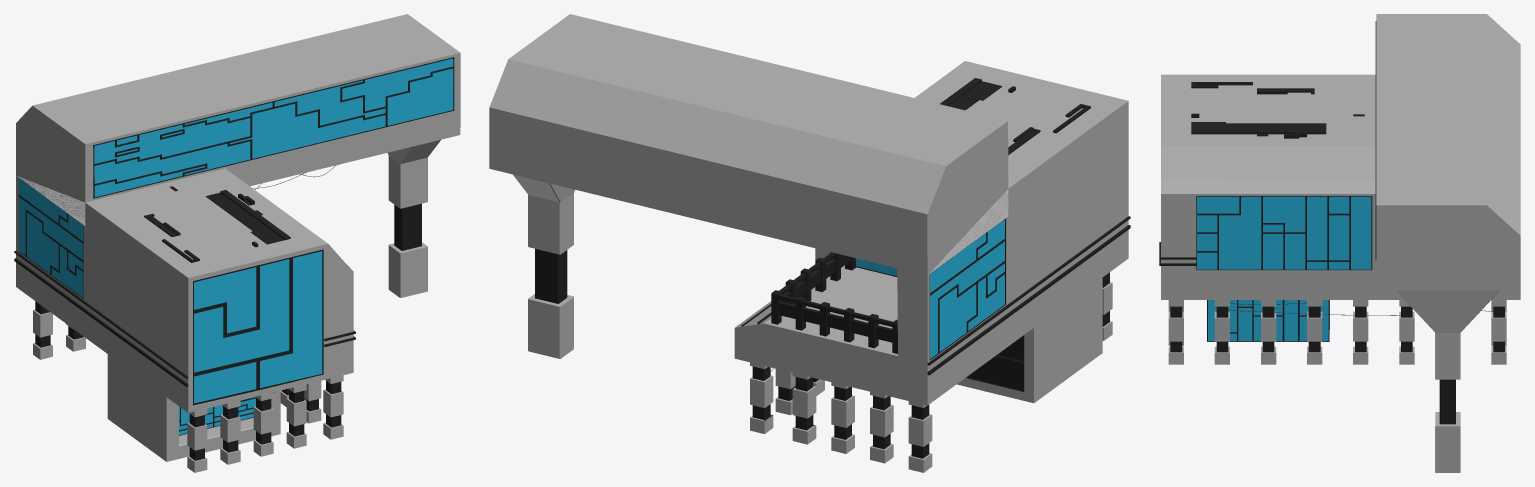
File: Building_03.fbx
3 views of the same model, side by side, from view 1: azimuth 30°, elevation 25°; view 2: azimuth 150°, elevation 25°; view 3: azimuth 270°, elevation 25° (orthographic). The views are drawn at different scales.
Visible parts, largest first — view 1: Building_03_Upper, Building_03_Windows, Building_03_Columns, Building_03_Lower, Building_03_Details; view 2: Building_03_Upper, Building_03_Columns, Building_03_Windows, Building_03_Lower, Building_03_Corner, Building_03_Details; view 3: Building_03_Upper, Building_03_Windows, Building_03_Columns, Building_03_Details.
Boxes of the visible parts, x1,y1,x2,y2 form: Building_03_Upper: (14, 14, 460, 412); Building_03_Windows: (18, 57, 454, 435); Building_03_Columns: (33, 140, 440, 472); Building_03_Lower: (107, 354, 280, 461); Building_03_Details: (144, 186, 290, 262); Building_03_Upper: (489, 14, 1130, 405); Building_03_Columns: (513, 174, 1112, 472); Building_03_Windows: (856, 218, 1024, 391); Building_03_Lower: (957, 278, 1102, 403); Building_03_Corner: (771, 252, 897, 353); Building_03_Details: (940, 78, 1090, 154); Building_03_Upper: (1159, 14, 1520, 299); Building_03_Windows: (1196, 21, 1376, 341); Building_03_Columns: (1168, 290, 1506, 472); Building_03_Details: (1191, 82, 1364, 138).
Size of the model in its own units: 1480 by 969 by 1177.
